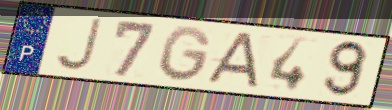4: (267, 35, 310, 94)
7: (111, 17, 159, 79)
9: (320, 39, 372, 100)
A: (200, 31, 262, 90)
G: (157, 24, 214, 84)
J: (53, 16, 105, 72)
